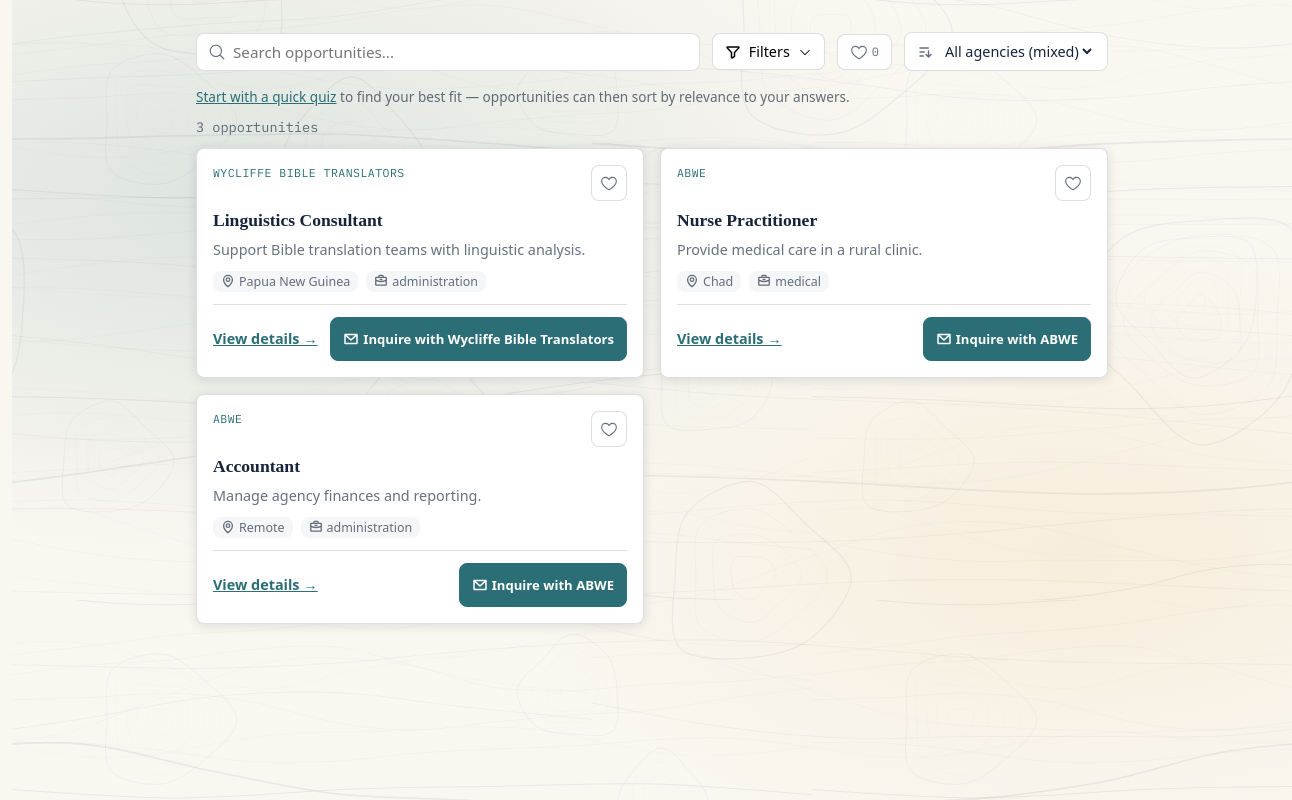
Test: OpportunitiesExplorer fuzzy search › narrows to titles/agency/description/location matching the query
Expected: the heading "Nurse Practitioner" is shown, 677,210 -> 817,230
Type "nurse" into the search field with placeholder "Search opportunities..." at (448, 52), box 196,32 -> 700,70
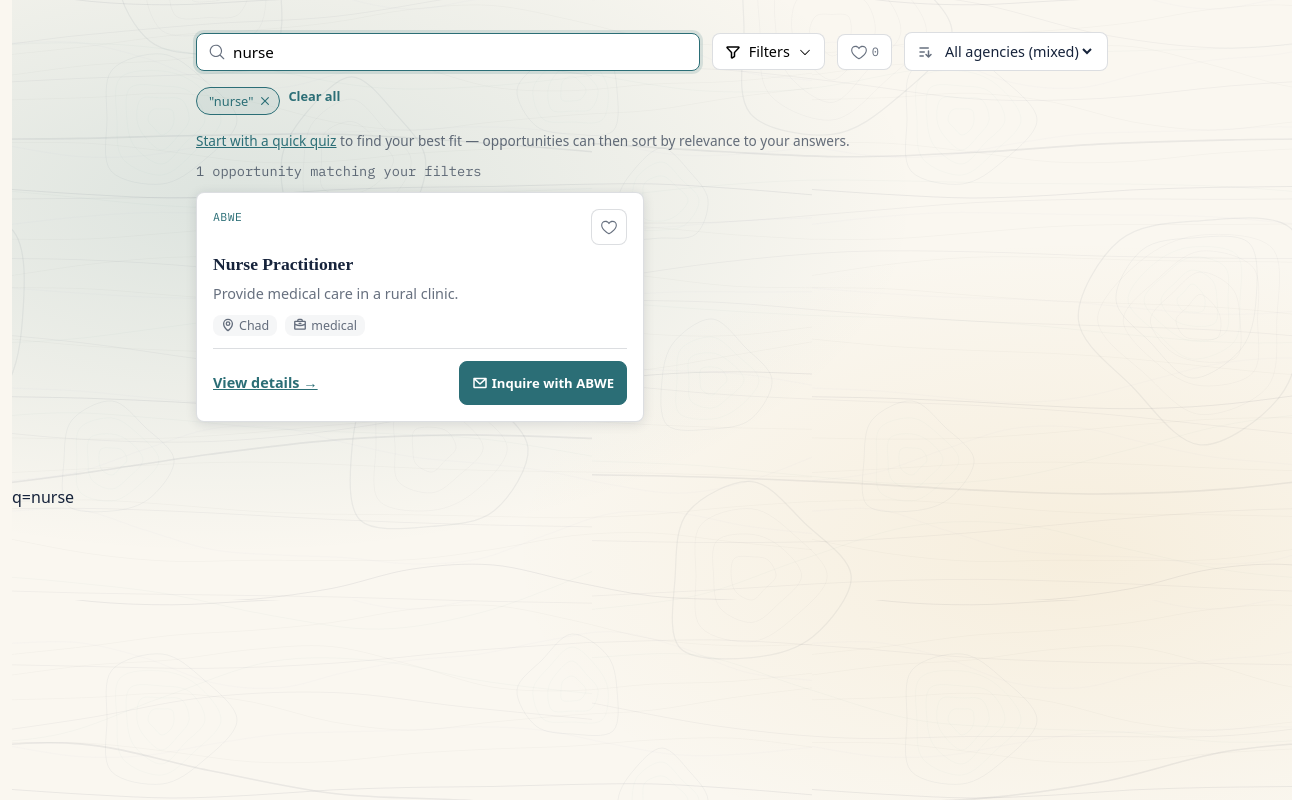
Expected: the heading "Nurse Practitioner" is shown, 213,254 -> 353,274
Now the heading "Linguistics Consultant" is gone
Now the heading "Accountant" is gone
